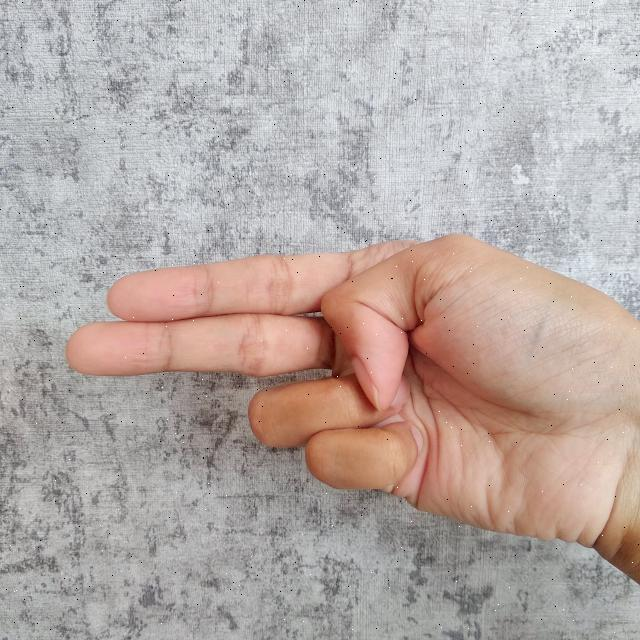H: (52, 227, 640, 590), (62, 226, 640, 583)
